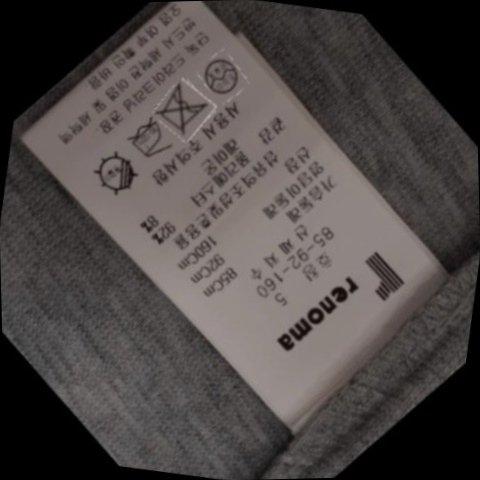DN_wash: (155, 83, 215, 136)
dry_clean_petrol_only: (200, 52, 247, 98)
iron_low: (122, 117, 175, 164)
line_dry_in_shade: (91, 150, 148, 199)
